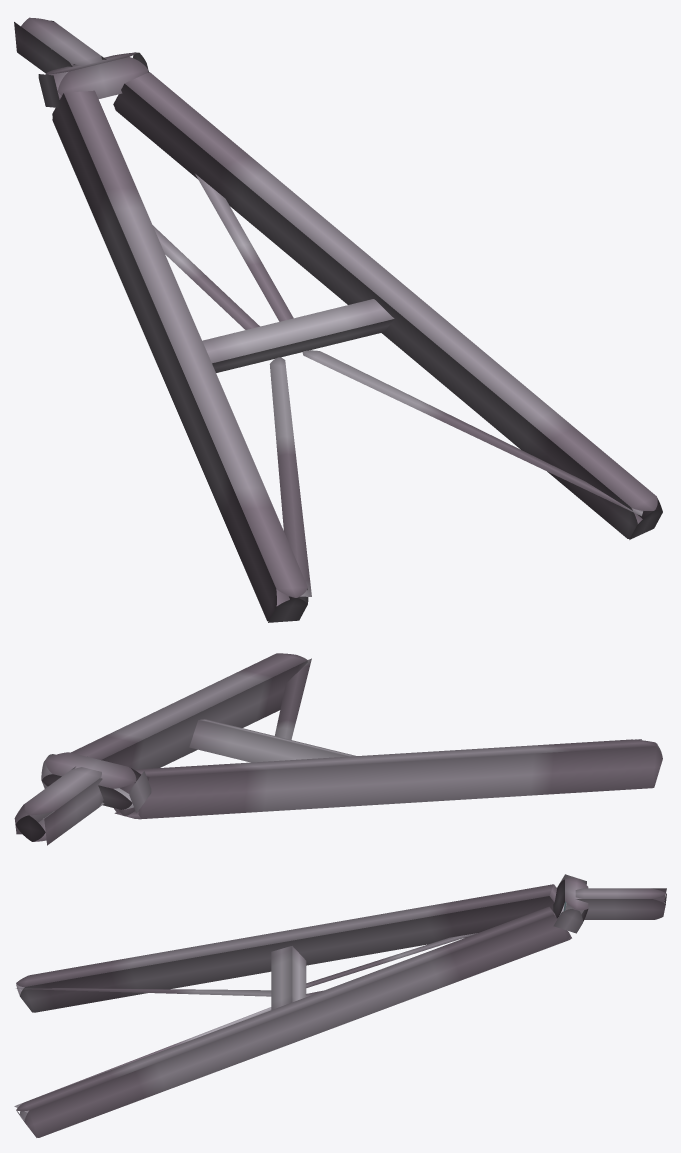
Rendered from hxd3d_panto_small_arm.obj.
3 renders of one model, top to bottom at view 1: azimuth 30°, elevation 25°; view 2: azimuth 150°, elevation 25°; view 3: azimuth 270°, elevation 25°, orthographic. The views are drawn at different scales.
Visible parts, largest first — view 1: second; view 2: second; view 3: second.
Boxes of the visible parts, bbox=[...] form: second: bbox=[14, 17, 662, 622]; second: bbox=[14, 653, 662, 845]; second: bbox=[14, 874, 666, 1137].
Size of the model in its own units: 0.8978 by 0.5527 by 1.8.
